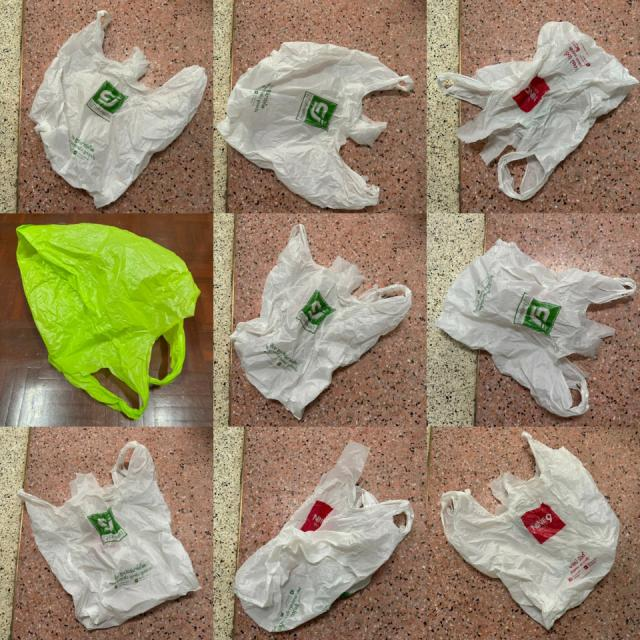Single-layer Plastic: (16, 224, 200, 419), (440, 431, 620, 629), (439, 21, 638, 199), (436, 240, 636, 416), (230, 224, 411, 418), (30, 11, 208, 207), (234, 441, 414, 632), (18, 441, 199, 629), (218, 41, 414, 209)
